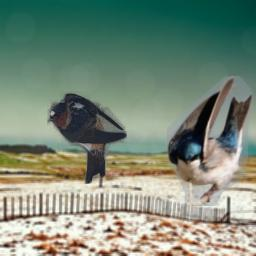Swallow: (167, 76, 253, 206), (47, 91, 127, 184)
